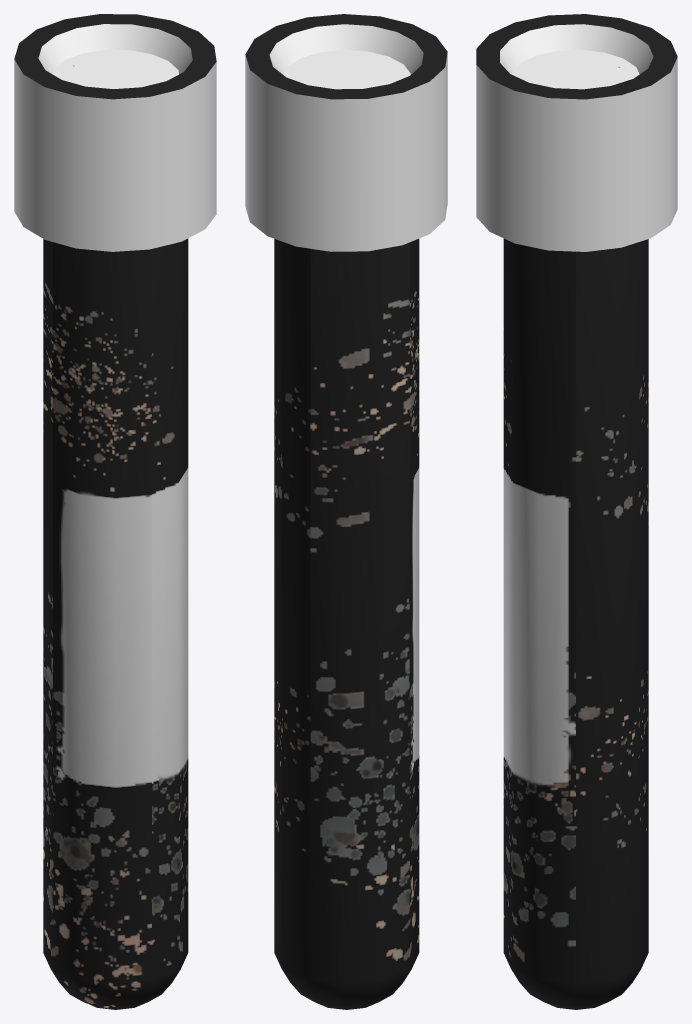
The model's file is Env_Test_Tube.fbx.
The picture shows the model from 3 angles, left to right: view 1: azimuth 30°, elevation 25°; view 2: azimuth 150°, elevation 25°; view 3: azimuth 270°, elevation 25°; orthographic projection.
Parts seen in each view (by area): view 1: Sphere; view 2: Sphere; view 3: Sphere.
Part boxes in pixels (x1,y1,x2,y2): Sphere: (14,14,216,1009); Sphere: (245,14,447,1009); Sphere: (476,14,677,1009).
Bounding box in the file's own units: 4.26 × 21.98 × 4.24.
